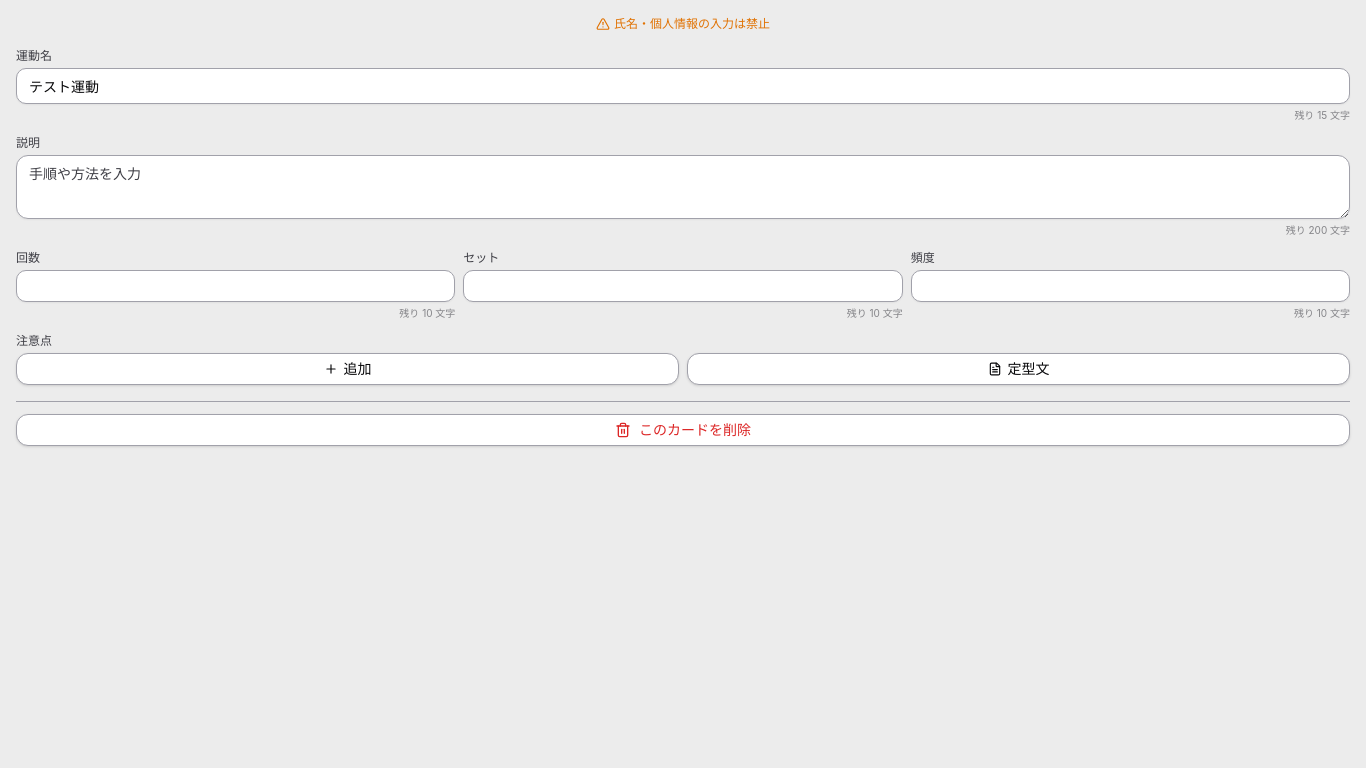
Test: PropertyPanel › 削除機能 › 削除ボタンをクリックすると確認ダイアログが表示される
What coordinates should you click on to do the following:
click the button "このカードを削除"
I would click on:
 (683, 430)
Its box is [16,414,1350,446].
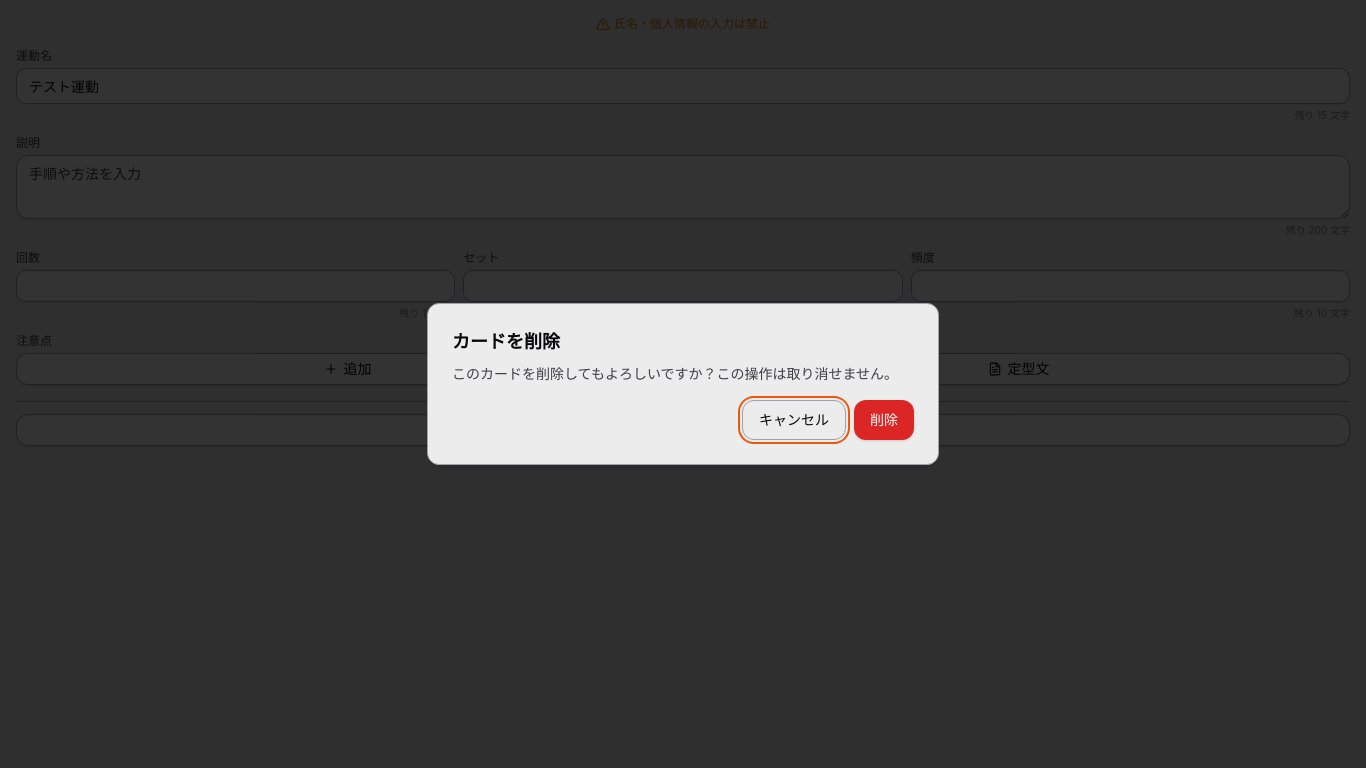
Result: the heading "カードを削除" is shown at [452,331,560,352]
Result: the text "このカードを削除してもよろしいですか？この操作は取り消せません。" is shown at [452,364,914,384]
